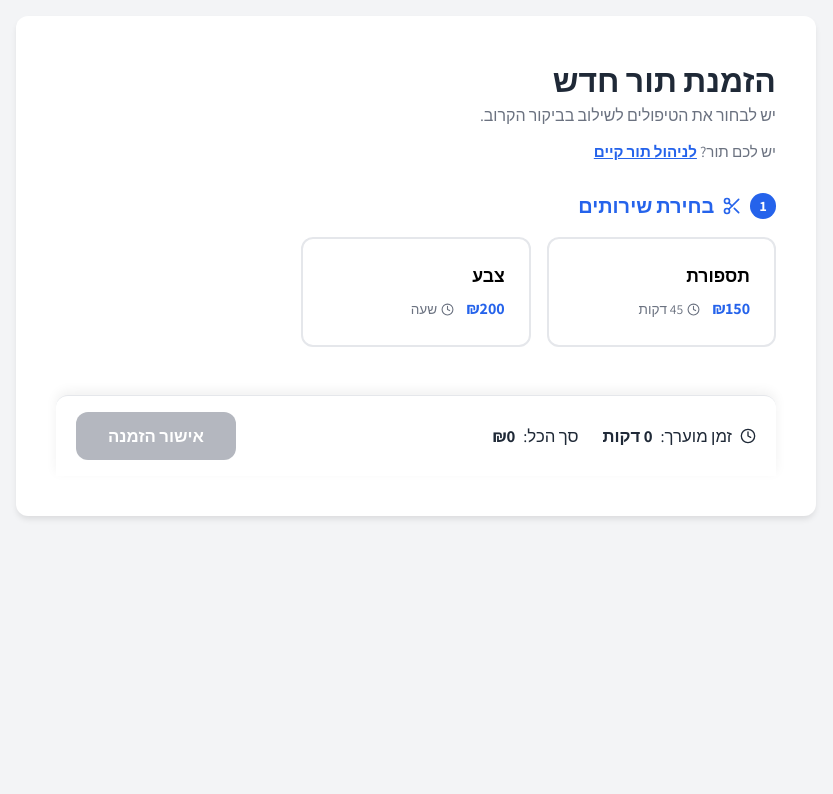
CustomerBookingPage › sums price and duration for the selected services
Click the heading "תספורת".
click(718, 275)  # box [686,264,750,287]
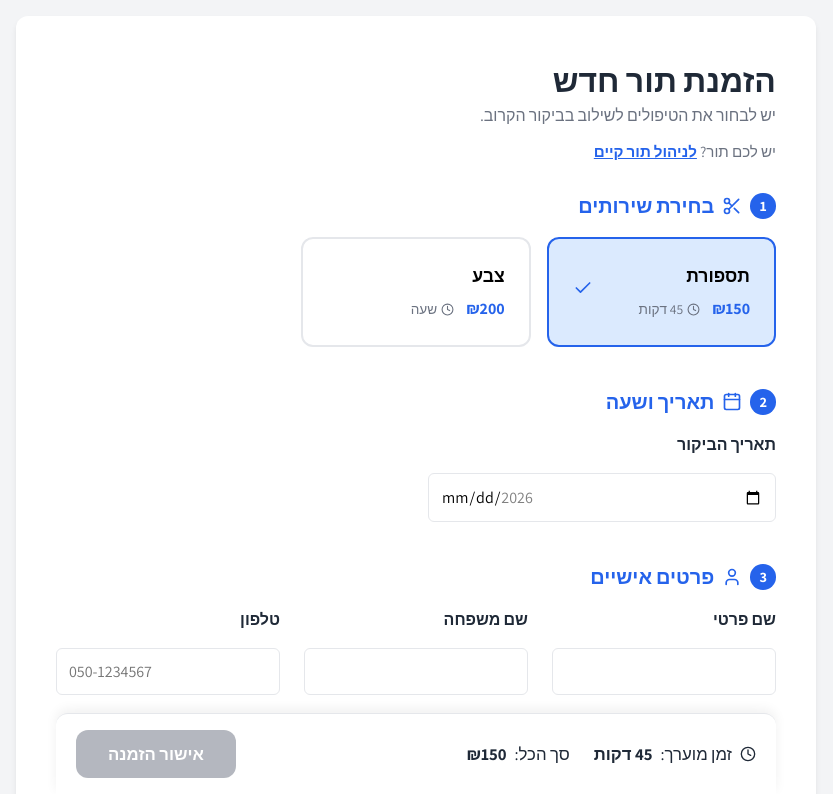
Click the heading "צבע".
click(488, 275)  # box [472,264,505,287]
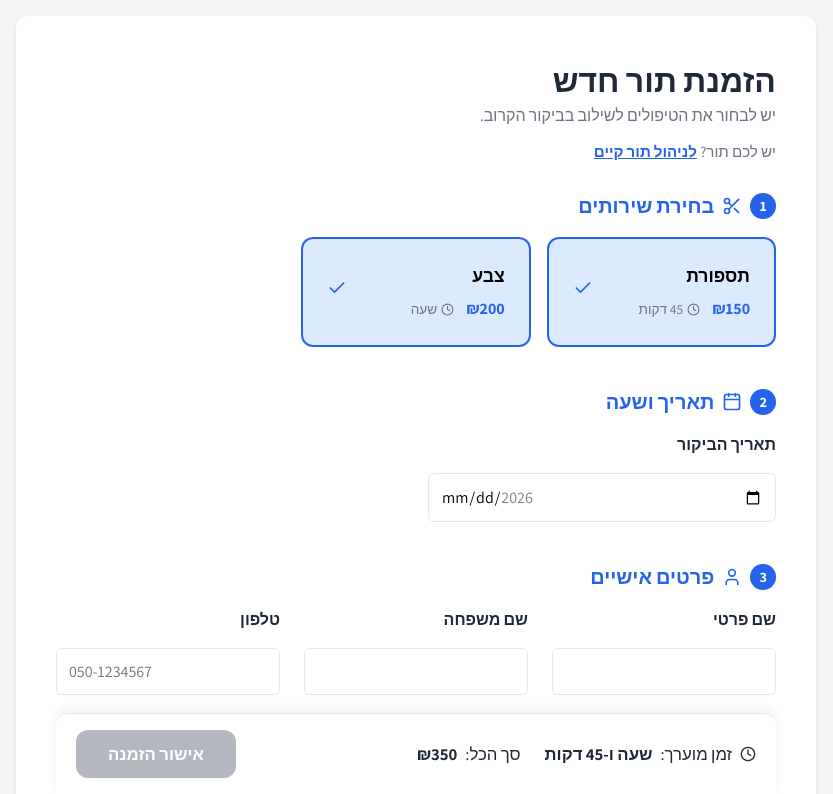
Expected: the text "₪350" is shown, [417,741,457,767]
Expected: the text "שעה ו-45 דקות" is shown, [545,741,653,767]
